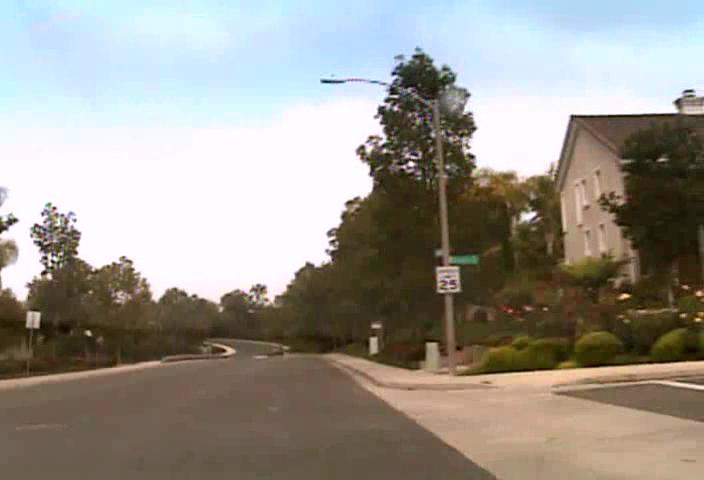speedLimit25: (435, 265, 461, 293)
